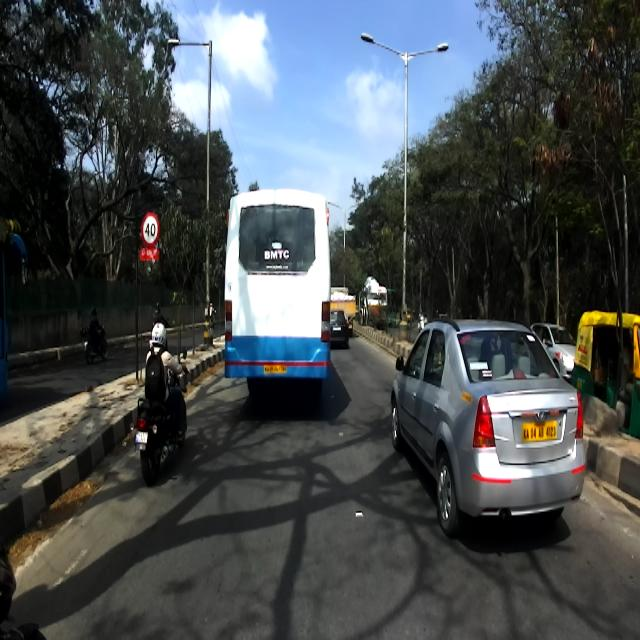bus ahead at: (224, 189, 330, 384)
car ahead at: (390, 310, 588, 539)
motorcycle ahead at: (134, 379, 198, 486)
sign board ahead at: (126, 205, 160, 385)
